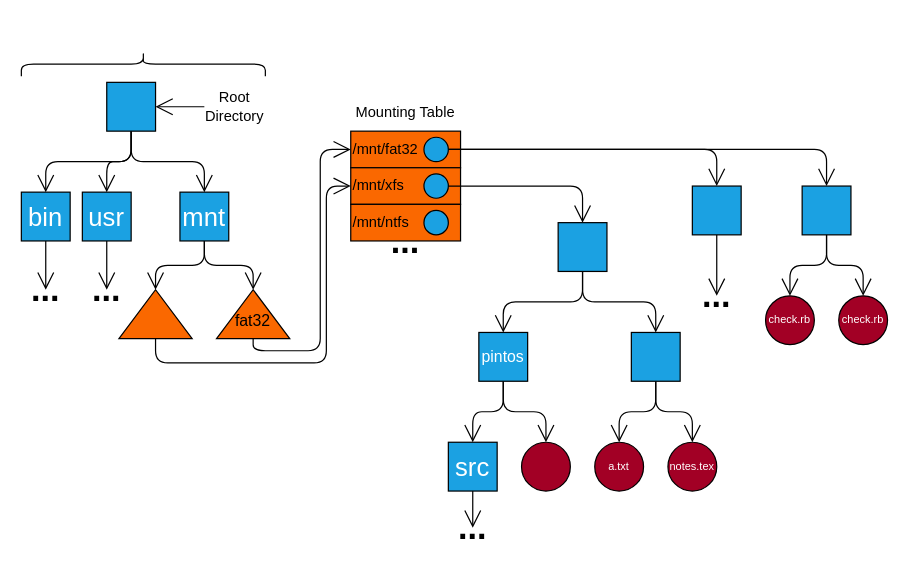
This 909x572 diagram has some shape labels left out. The centre of each missing label's shape, as x and y in pixels:
doc: the point at 716,210
ext2fs: the point at 142,63
img: the point at 826,210
lect notes: the point at 655,356
my files: the point at 582,246
readme: the point at 545,466
xfs: the point at 155,314
